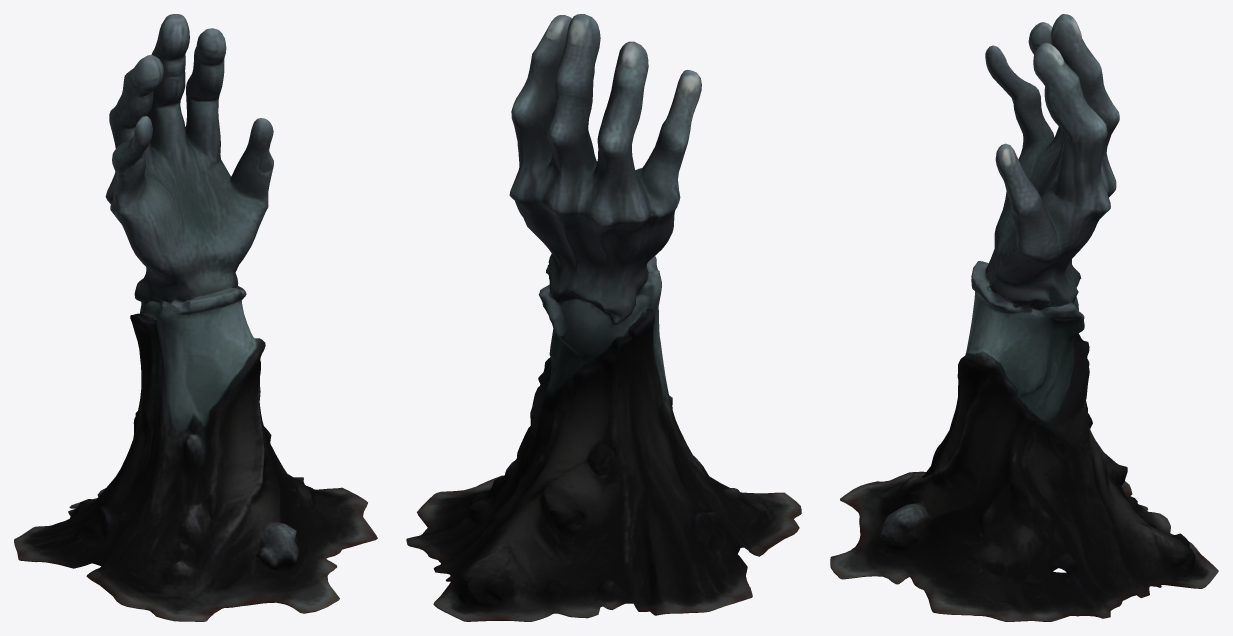
File: ashhand.glb
3 renders of one model, left to right at view 1: azimuth 30°, elevation 25°; view 2: azimuth 150°, elevation 25°; view 3: azimuth 270°, elevation 25°, orthographic. The views are drawn at different scales.
Visible parts, largest first — view 1: world; view 2: world; view 3: world.
Boxes of the visible parts, x1,y1,x2,y2 form: world: [14, 14, 377, 621]; world: [406, 14, 801, 621]; world: [830, 14, 1218, 621].
Size of the model in its own units: 0.648 by 1 by 0.6574.
Materials: 1 (1 with a texture image).
